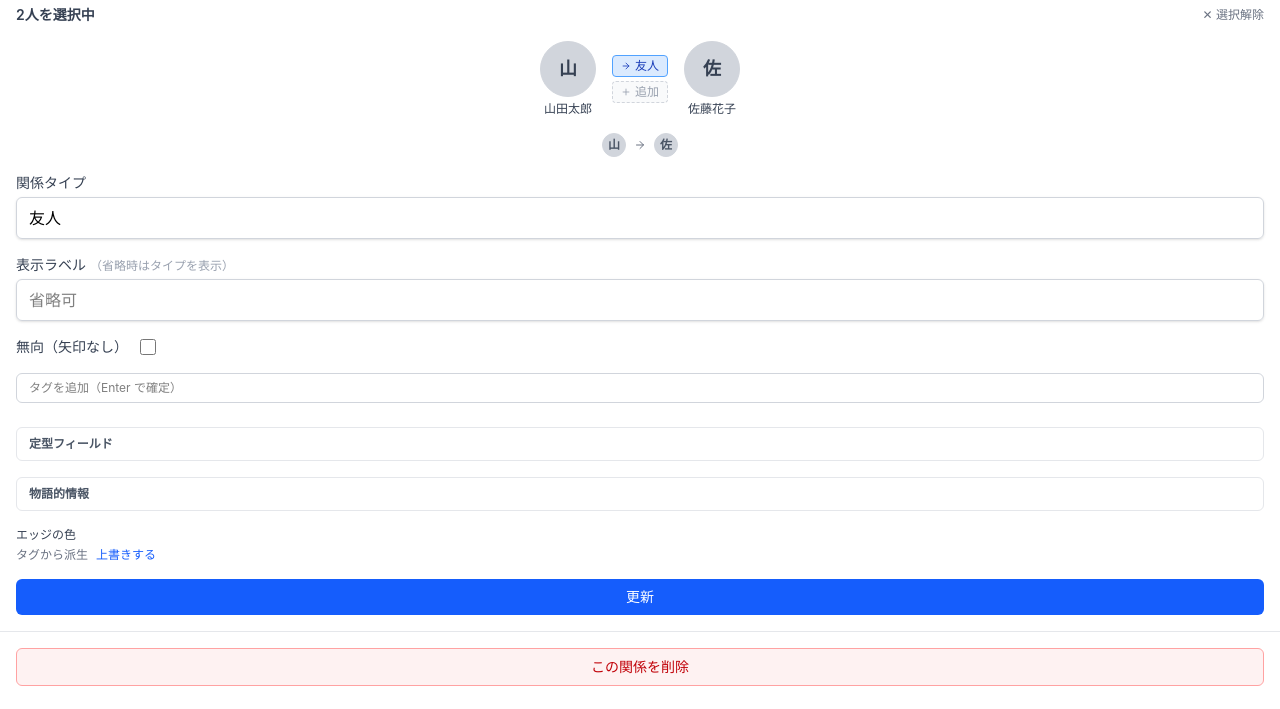
Scenario: PairSelectionPanel › 関連エピソード表示 › ペアに関連しないエピソードは表示されない
The width and height of the screenshot is (1280, 709).
What coordinates should you click on to do the following:
click the heading "物語的情報"
I would click on:
 (59, 494)
Its box is [29,486,89,501].
(page scrolled)
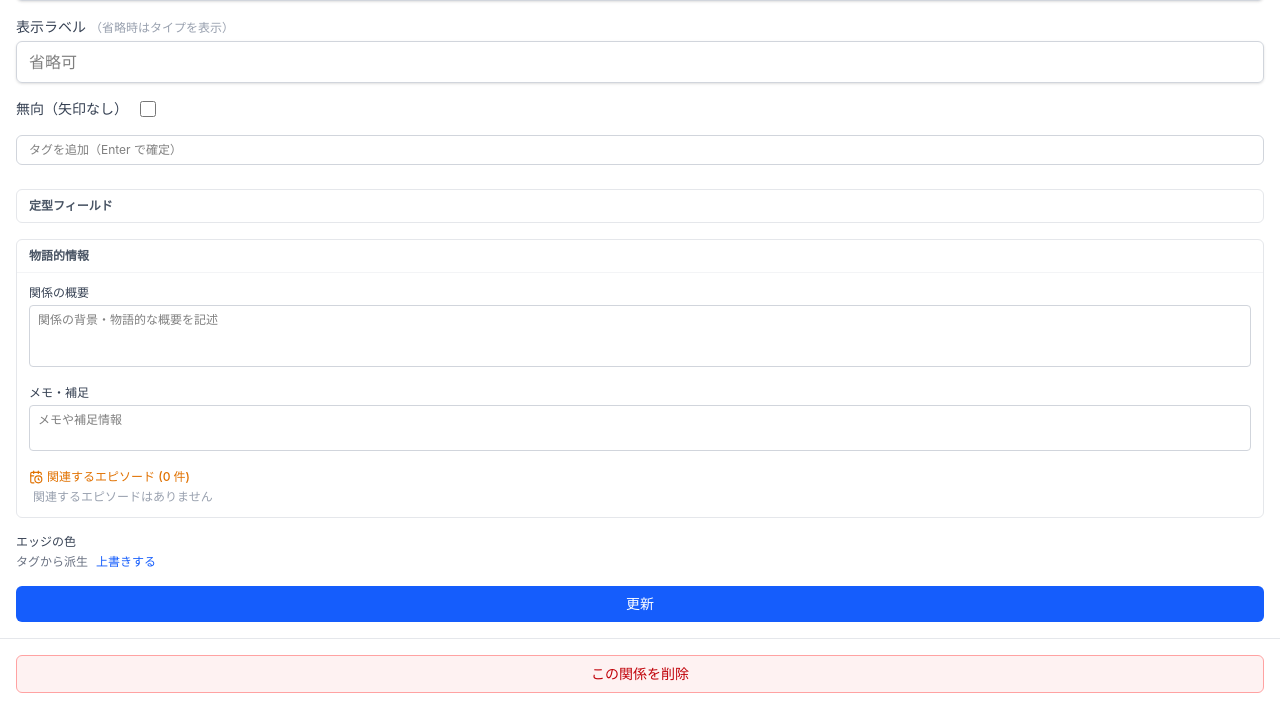
Expected: the text "関連するエピソードはありません" is shown, [33,489,213,504]
